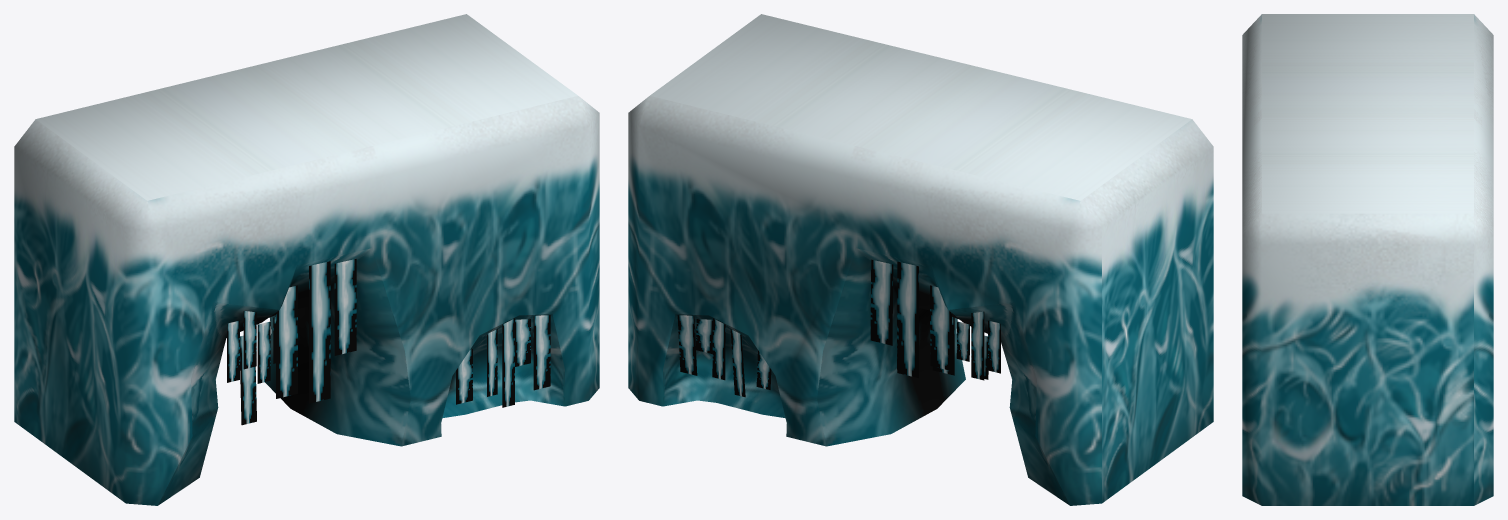
The model's file is iceblock1x2.DAE.
The picture shows the model from 3 angles, left to right: view 1: azimuth 30°, elevation 25°; view 2: azimuth 150°, elevation 25°; view 3: azimuth 270°, elevation 25°; orthographic projection. The views are drawn at different scales.
Visible parts, largest first — view 1: iceBlock1x2; view 2: iceBlock1x2; view 3: iceBlock1x2.
Part boxes in pixels (x1,y1,x2,y2): iceBlock1x2: [14, 14, 599, 505]; iceBlock1x2: [628, 14, 1213, 505]; iceBlock1x2: [1242, 14, 1493, 505].
Size of the model in its own units: 2 by 1.2 by 0.9687.
